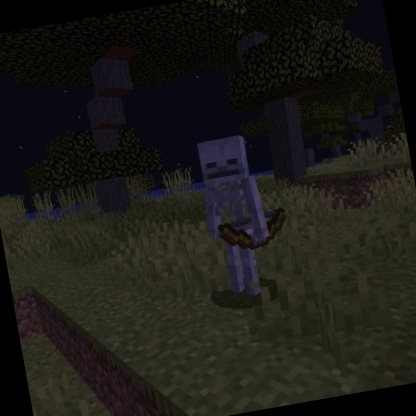skeleton: (187, 125, 301, 306)
